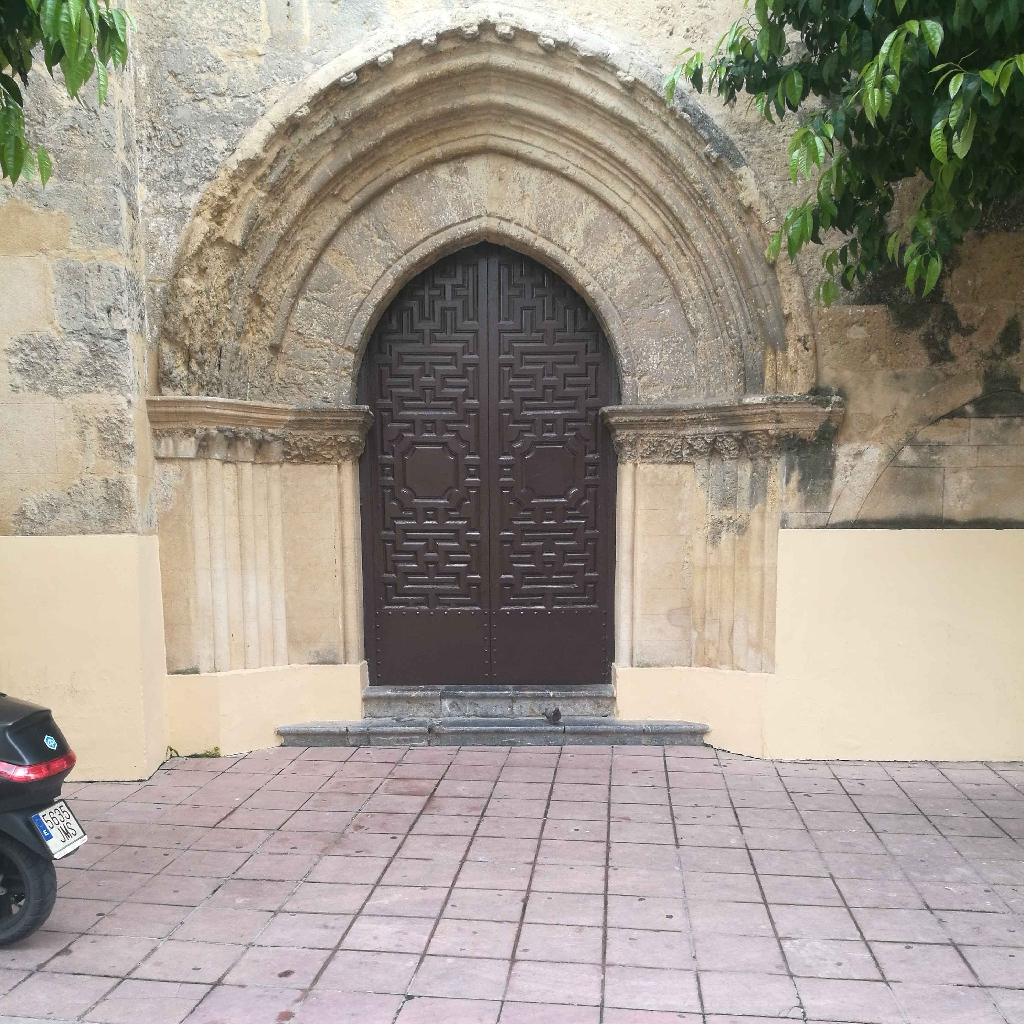arco-apuntado: (167, 18, 759, 407), (345, 212, 642, 420)
